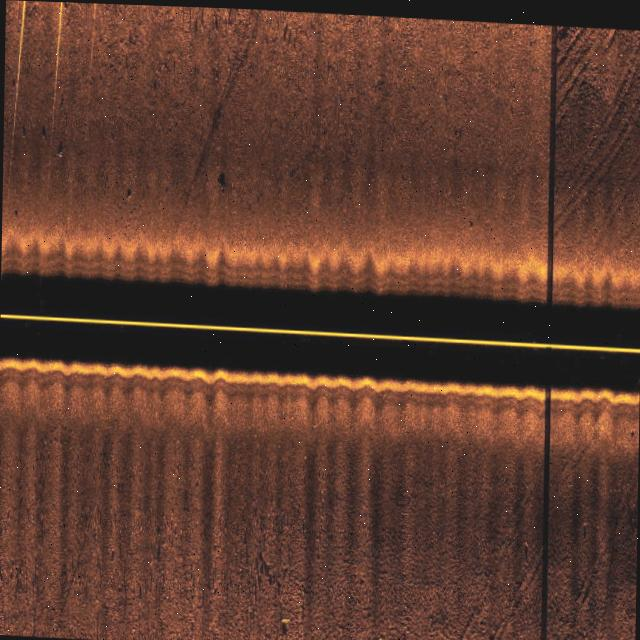other: (278, 613, 290, 632)
